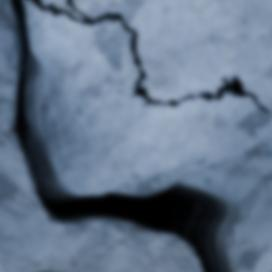brick: (25, 1, 271, 193), (73, 0, 271, 111), (42, 0, 71, 11)
crack: (2, 0, 271, 271)
